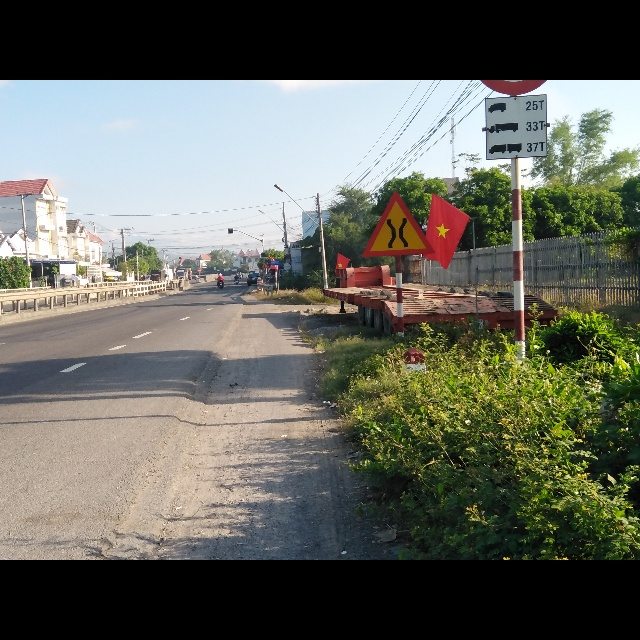Cầu hẹp: (362, 190, 434, 257)
